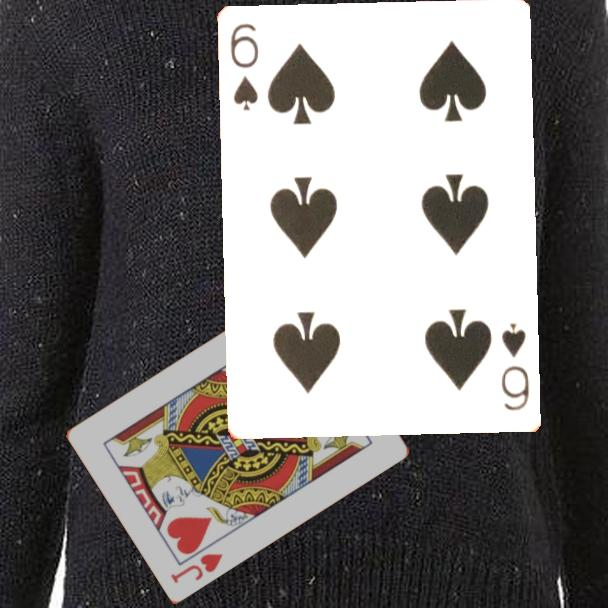h11: (167, 549, 226, 586)
s06: (498, 320, 533, 414), (227, 20, 262, 114)
